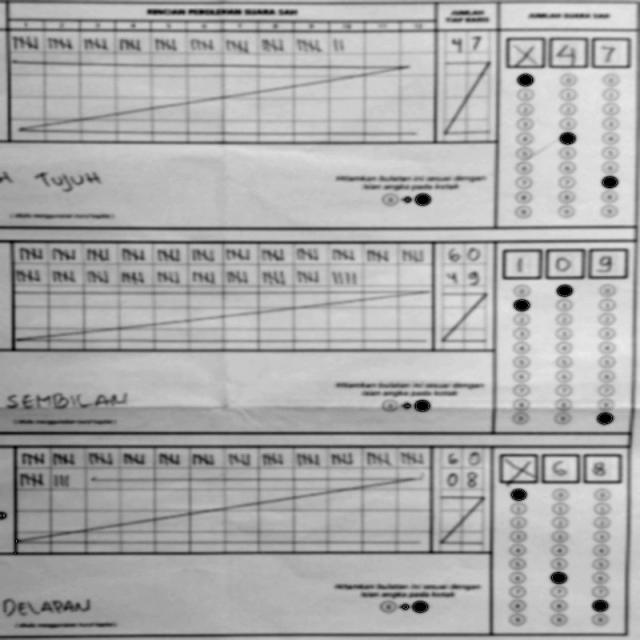Suara: (502, 29, 634, 70), (496, 446, 622, 486), (498, 243, 628, 281)
